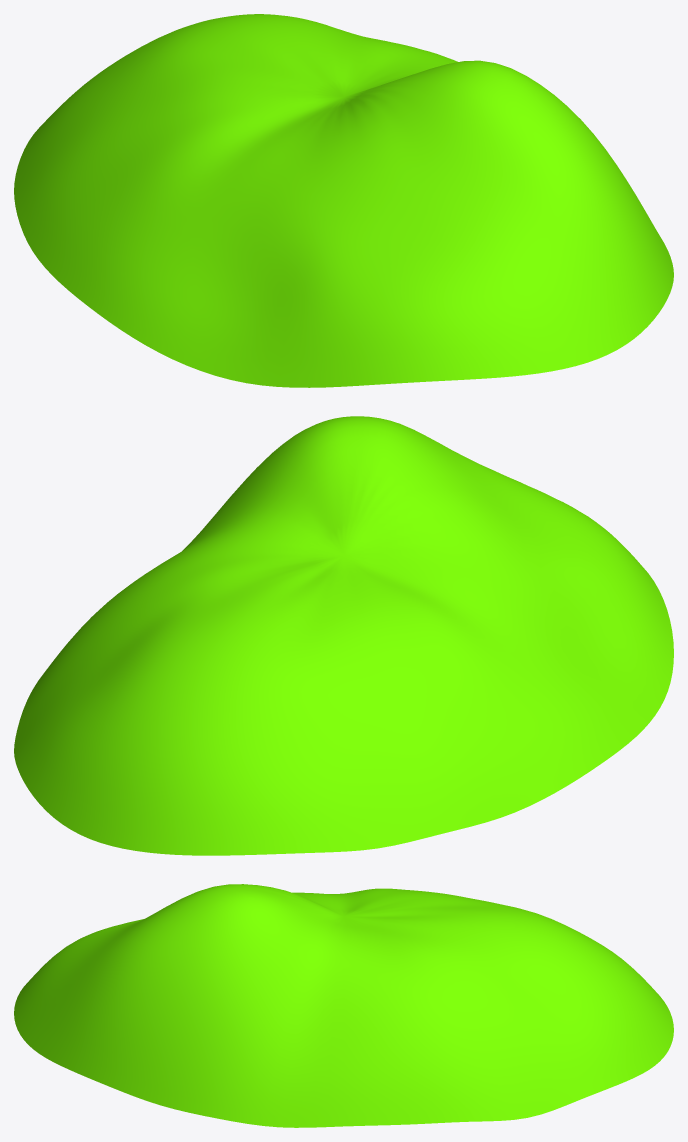
The model's file is Montañita_1.fbx.
The picture shows the model from 3 angles, top to bottom: view 1: azimuth 30°, elevation 25°; view 2: azimuth 150°, elevation 25°; view 3: azimuth 270°, elevation 25°; orthographic projection. The views are drawn at different scales.
Parts seen in each view (by area): view 1: Sphere; view 2: Sphere; view 3: Sphere.
Part boxes in pixels (<box>): Sphere: <box>14,14,673,387</box>; Sphere: <box>14,416,673,855</box>; Sphere: <box>14,884,673,1127</box>.
Bounding box in the file's own units: 312 × 125 × 438.
